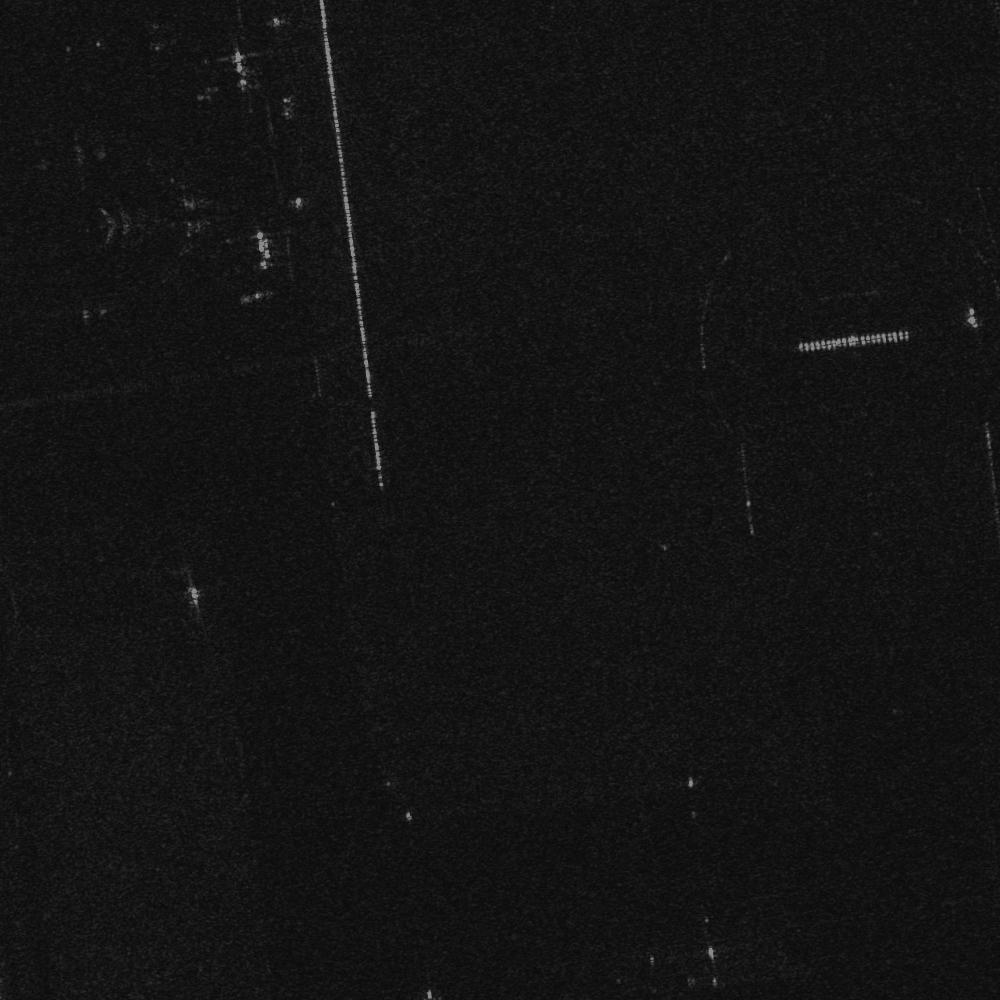Boeing787: (99, 153, 238, 282)
